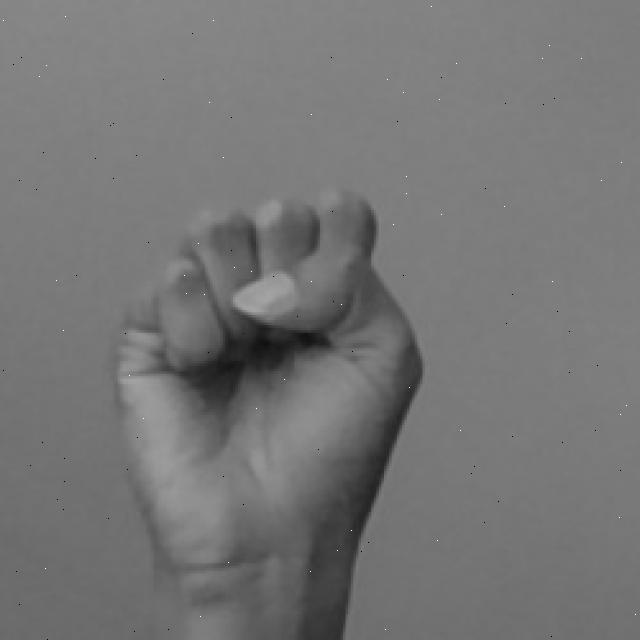S: (107, 184, 436, 640)
